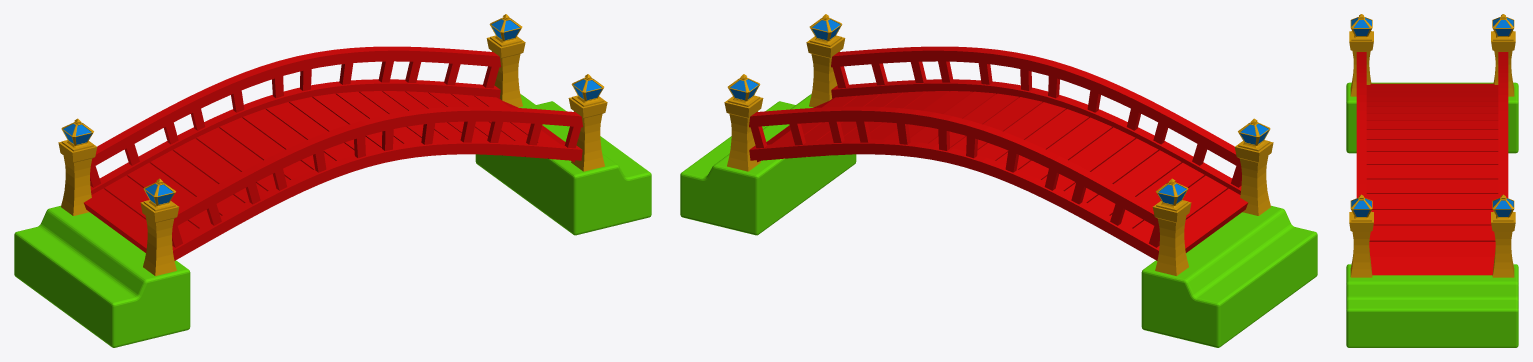
Rendered from bridge_mesh.fbx.
3 views of the same model, side by side, from view 1: azimuth 30°, elevation 25°; view 2: azimuth 150°, elevation 25°; view 3: azimuth 270°, elevation 25° (orthographic). The views are drawn at different scales.
Parts seen in each view (by area): view 1: Cube.007; view 2: Cube.007; view 3: Cube.007.
Part boxes in pixels (x1,y1,x2,y2): Cube.007: (14, 14, 651, 347); Cube.007: (680, 14, 1317, 347); Cube.007: (1346, 14, 1518, 347).
Size of the model in its own units: 2174 by 604 by 693.
